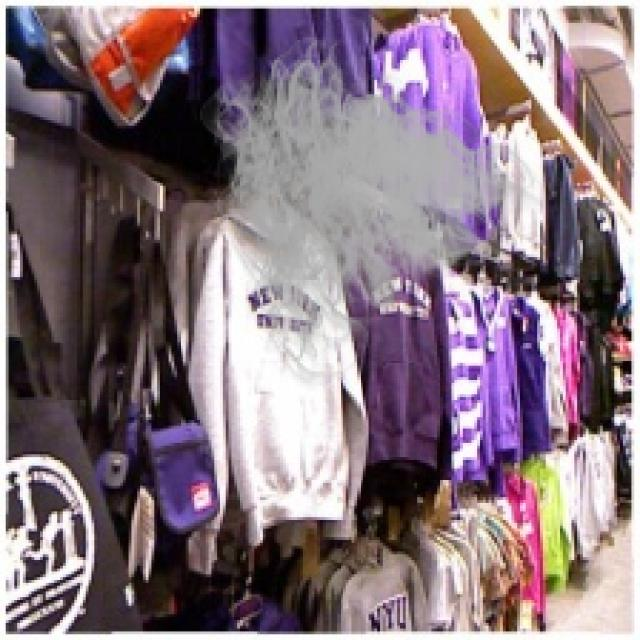smoke: (191, 26, 546, 391)
